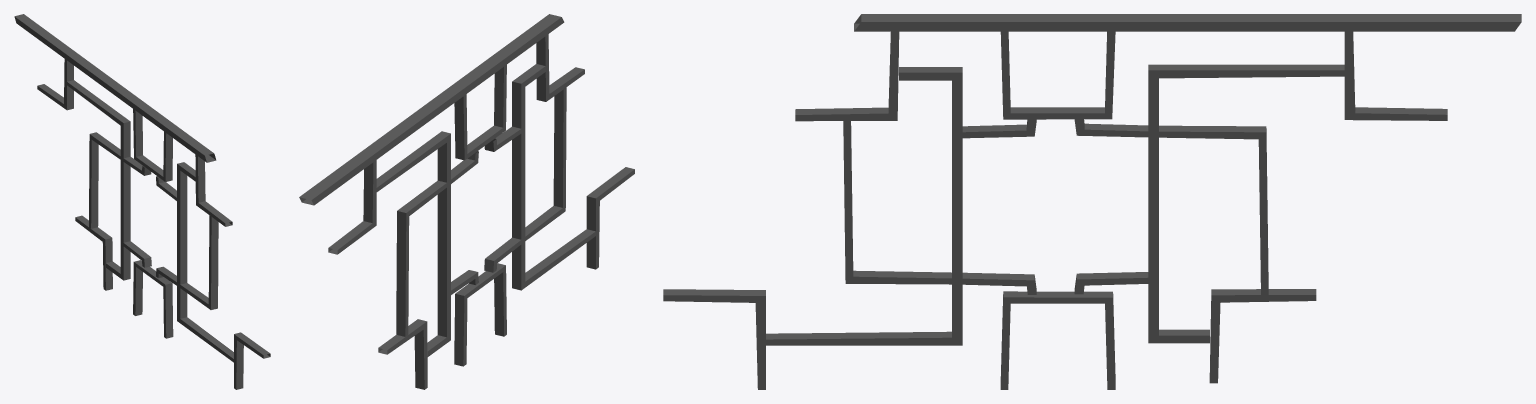
The model's file is nt_2020_house_02_railing_01_section_LOD1.obj.
The picture shows the model from 3 angles, left to right: view 1: azimuth 30°, elevation 25°; view 2: azimuth 150°, elevation 25°; view 3: azimuth 270°, elevation 25°; orthographic projection. The views are drawn at different scales.
Visible parts, largest first — view 1: nt_2020_metal_brushed; view 2: nt_2020_metal_brushed; view 3: nt_2020_metal_brushed.
Part boxes in pixels (x1,y1,x2,y2): nt_2020_metal_brushed: (14,14,270,389); nt_2020_metal_brushed: (299,14,634,389); nt_2020_metal_brushed: (663,14,1521,389).
Bounding box in the file's own units: 2.14 × 45.87 × 96.8.
